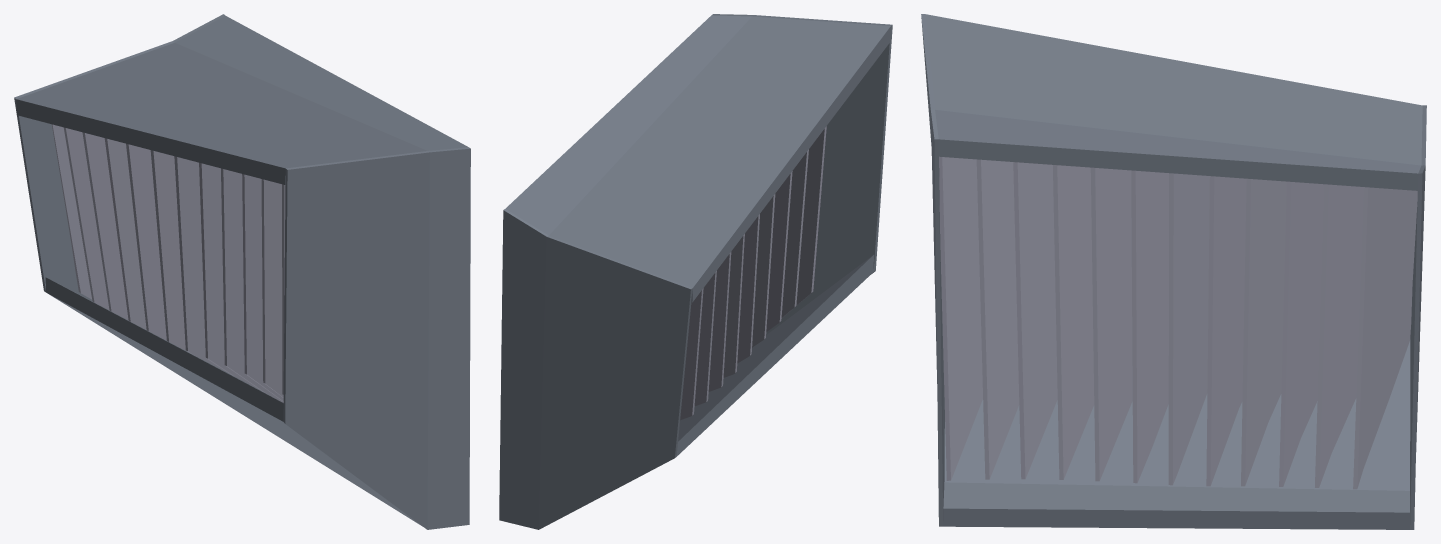
File: other_002_cutter-machine_001.fbx
The picture shows the model from 3 angles, left to right: view 1: azimuth 30°, elevation 25°; view 2: azimuth 150°, elevation 25°; view 3: azimuth 270°, elevation 25°; orthographic projection. The views are drawn at different scales.
Visible parts, largest first — view 1: other.002.cutter-machine.001; view 2: other.002.cutter-machine.001; view 3: other.002.cutter-machine.001.
Part boxes in pixels (x1=…): other.002.cutter-machine.001: x1=14, y1=14, x2=470, y2=529; other.002.cutter-machine.001: x1=499, y1=14, x2=892, y2=529; other.002.cutter-machine.001: x1=921, y1=14, x2=1426, y2=529.
Bounding box in the file's own units: 0.1616 × 0.2924 × 0.318.
